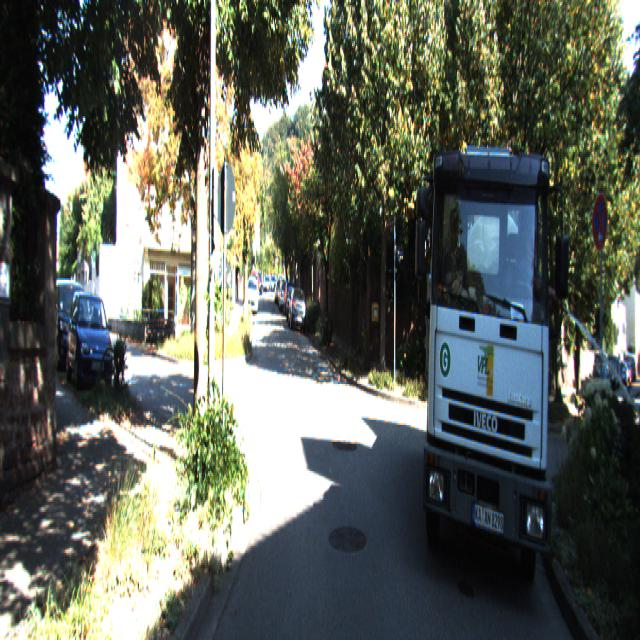Car: (419, 103, 559, 629), (66, 289, 116, 395), (287, 284, 306, 334), (247, 277, 259, 317)
